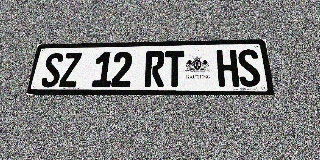1: (92, 52, 114, 87)
2: (111, 52, 133, 87)
H: (216, 50, 239, 87)
R: (144, 51, 165, 87)
S: (237, 49, 262, 87), (40, 53, 64, 87)
T: (165, 51, 185, 87)
Z: (59, 53, 82, 87)
